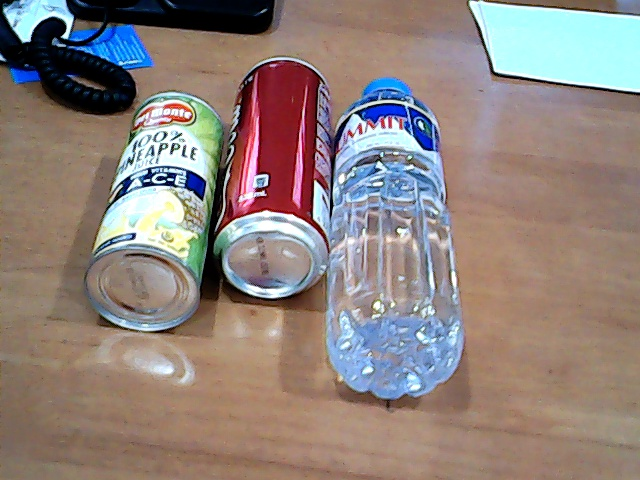Cola: (201, 35, 353, 316)
Pine Juice: (73, 77, 235, 348)
Summit Water: (312, 61, 488, 422)
